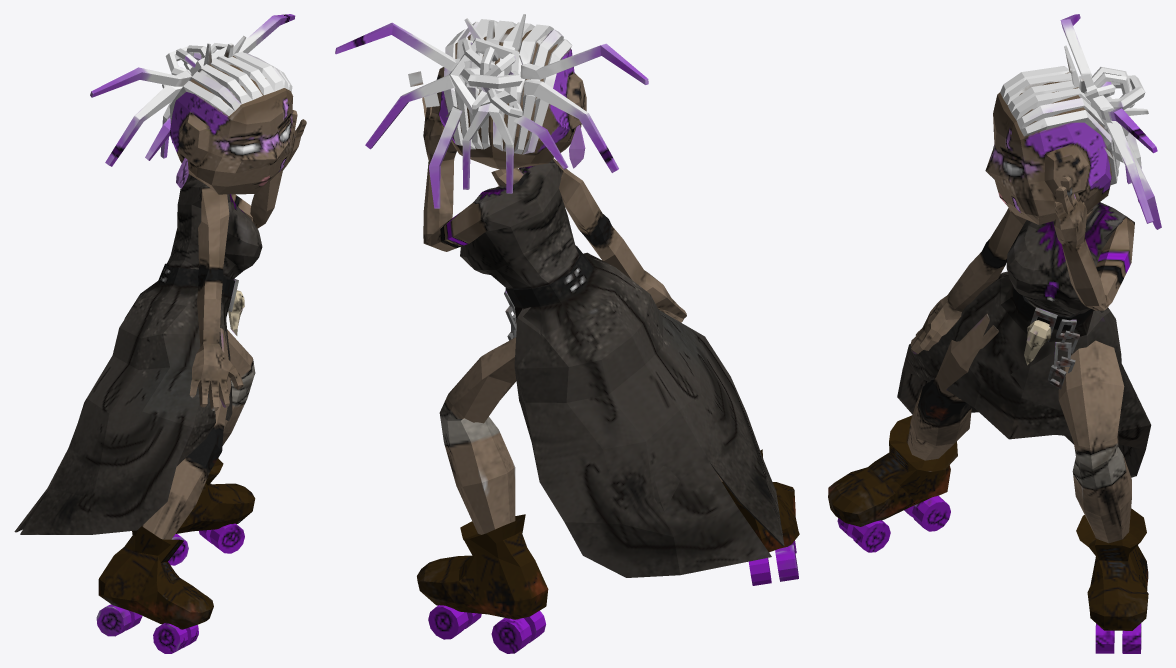
Rendered from bruja_000014.obj.
3 views of the same model, side by side, from view 1: azimuth 30°, elevation 25°; view 2: azimuth 150°, elevation 25°; view 3: azimuth 270°, elevation 25° (orthographic). The views are drawn at different scales.
Parts seen in each view (by area): view 1: Bruja_Plane.001; view 2: Bruja_Plane.001; view 3: Bruja_Plane.001.
Boxes of the visible parts, x1,y1,x2,y2 form: Bruja_Plane.001: [14, 14, 306, 653]; Bruja_Plane.001: [335, 14, 799, 653]; Bruja_Plane.001: [828, 14, 1161, 653].
Size of the model in its own units: 10.14 by 15.38 by 7.93.
